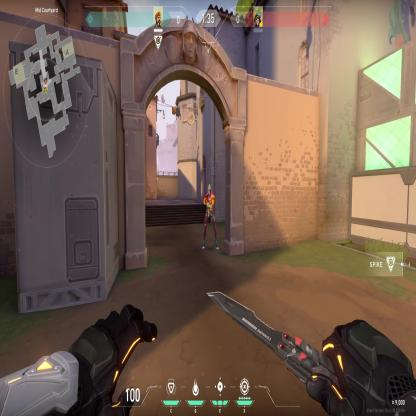enemy: (202, 184, 220, 250)
